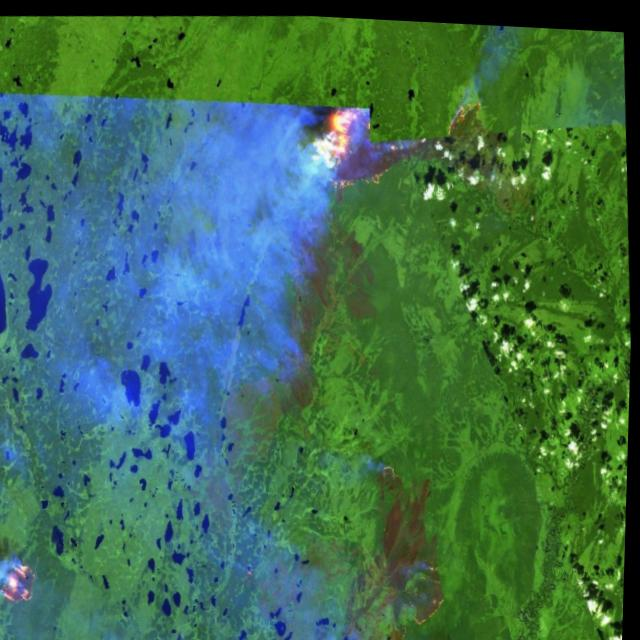fire: (308, 84, 425, 200), (432, 82, 500, 162), (396, 549, 456, 639), (0, 554, 52, 627), (374, 446, 414, 500)
